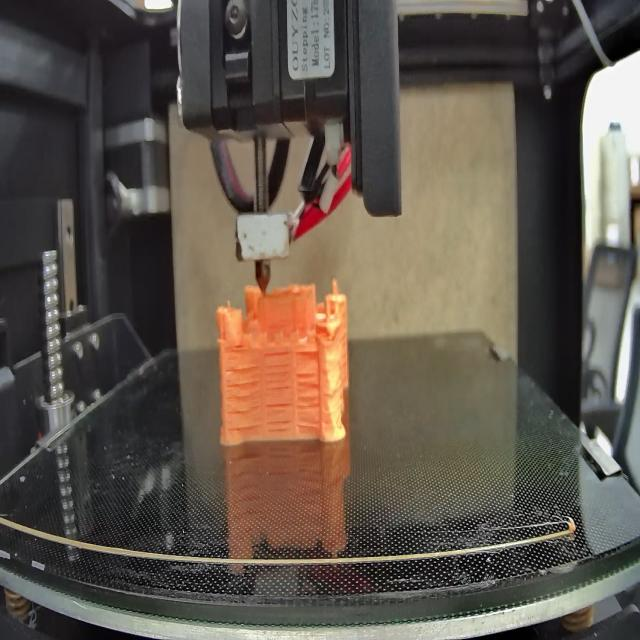cracks: (224, 363, 262, 431), (264, 351, 293, 434), (297, 369, 321, 432), (295, 347, 320, 362)
